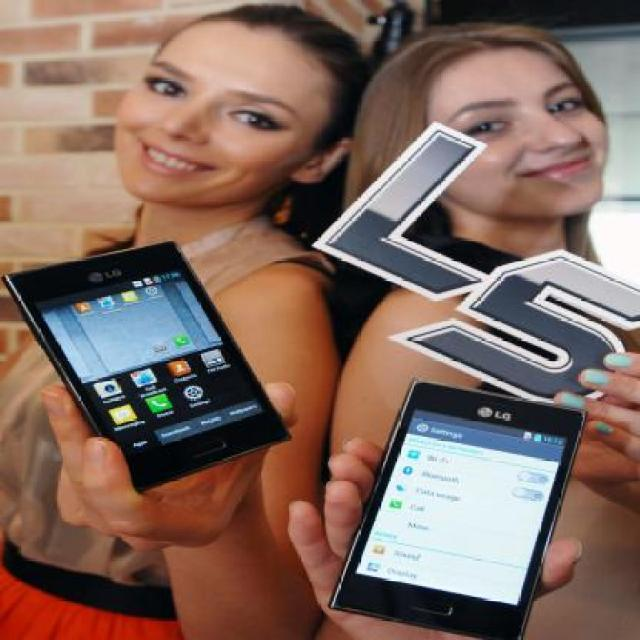phone: (3, 237, 292, 493), (326, 375, 589, 639)
